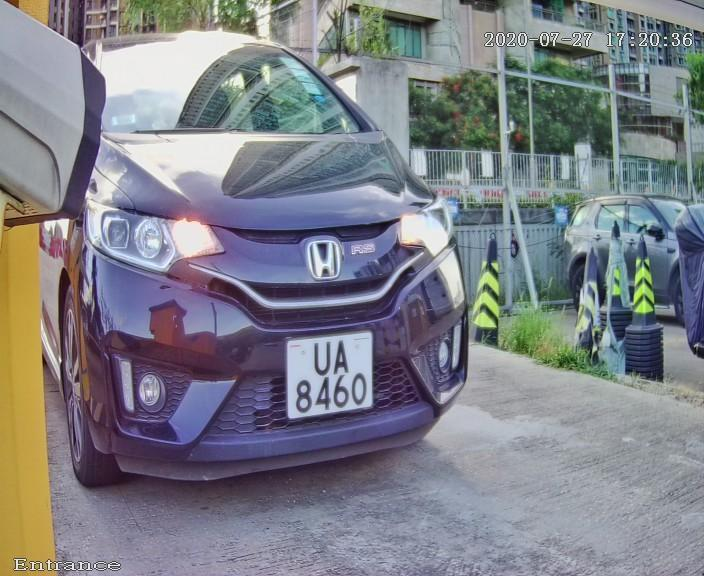privatecar: (16, 18, 519, 505)
